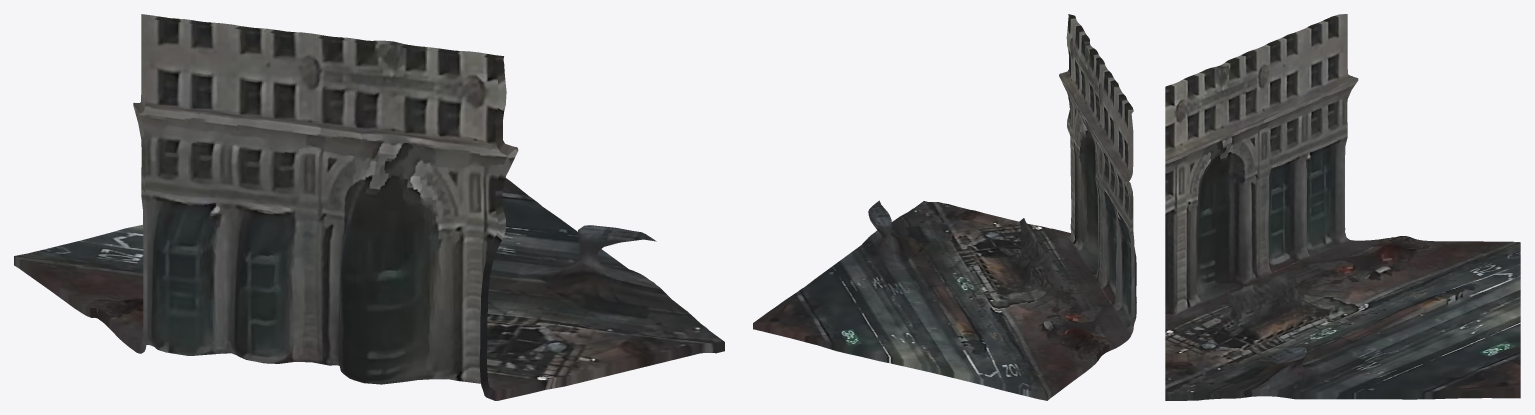
The model's file is z20-167781-405230-h0-yup-uvflip-v3-world.glb.
The picture shows the model from 3 angles, left to right: view 1: azimuth 30°, elevation 25°; view 2: azimuth 150°, elevation 25°; view 3: azimuth 270°, elevation 25°; orthographic projection. The views are drawn at different scales.
Bounding box in the file's own units: 30.16 × 22.36 × 30.32.
1 material, 1 textured.
